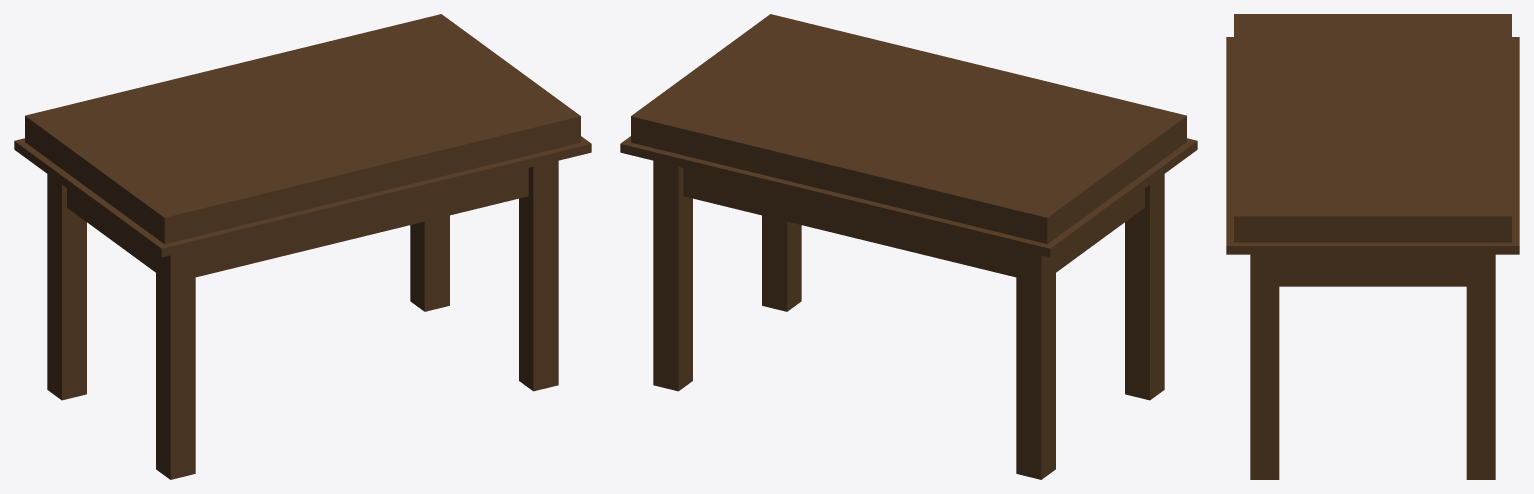
File: table_80s.glb
3 renders of one model, left to right at view 1: azimuth 30°, elevation 25°; view 2: azimuth 150°, elevation 25°; view 3: azimuth 270°, elevation 25°, orthographic.
Parts seen in each view (by area): view 1: wood__solid_top, wood__front_apron, _MeshInstance3D_112, _MeshInstance3D_114, wood__top_edge, wood__wood_leg, _MeshInstance3D_113, wood__left_apron; view 2: wood__solid_top, wood__back_apron, wood__wood_leg, _MeshInstance3D_113, wood__top_edge, _MeshInstance3D_112, _MeshInstance3D_114, wood__left_apron; view 3: wood__solid_top, wood__top_edge, _MeshInstance3D_113, _MeshInstance3D_114, wood__right_apron.
Boxes of the visible parts, <box> form: wood__solid_top: <box>25,14,580,244</box>; wood__front_apron: <box>195,168,528,277</box>; _MeshInstance3D_112: <box>156,249,195,479</box>; _MeshInstance3D_114: <box>519,160,558,391</box>; wood__top_edge: <box>14,136,591,257</box>; wood__wood_leg: <box>47,174,86,400</box>; _MeshInstance3D_113: <box>410,215,449,311</box>; wood__left_apron: <box>67,188,155,272</box>; wood__solid_top: <box>631,14,1186,244</box>; wood__back_apron: <box>683,168,1016,277</box>; wood__wood_leg: <box>1016,249,1055,479</box>; _MeshInstance3D_113: <box>653,160,692,391</box>; wood__top_edge: <box>620,136,1197,257</box>; _MeshInstance3D_112: <box>1125,174,1164,400</box>; _MeshInstance3D_114: <box>762,215,801,311</box>; wood__left_apron: <box>1056,188,1144,272</box>; wood__solid_top: <box>1234,14,1511,242</box>; wood__top_edge: <box>1226,37,1519,254</box>; _MeshInstance3D_113: <box>1466,254,1495,479</box>; _MeshInstance3D_114: <box>1250,254,1279,479</box>; wood__right_apron: <box>1279,254,1466,286</box>.
Size of the model in its own units: 1.28 by 0.7725 by 0.76.
